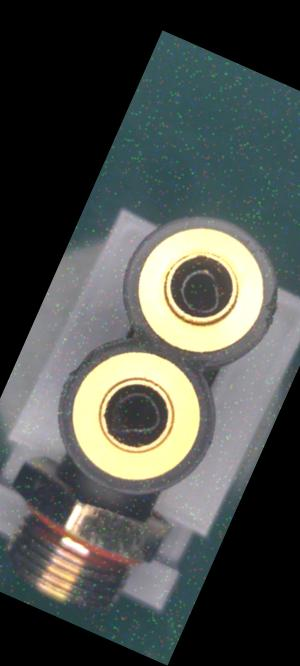bump: (253, 285, 295, 336), (63, 343, 101, 386)
off-centered: (97, 380, 172, 455), (169, 259, 237, 325)
